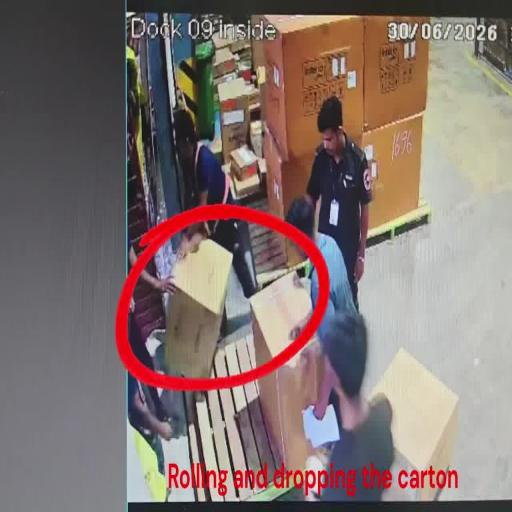carton: (256, 15, 366, 164), (250, 269, 327, 472), (370, 346, 461, 498), (265, 133, 355, 267), (164, 235, 232, 377), (353, 112, 423, 234), (362, 16, 430, 130), (219, 97, 251, 165), (229, 145, 260, 184), (226, 166, 262, 198)
pallet: (183, 326, 308, 502), (231, 214, 313, 290), (358, 206, 435, 250)
person: (284, 198, 360, 418), (172, 109, 258, 300), (316, 304, 396, 500), (300, 96, 372, 310), (126, 79, 176, 377), (127, 321, 173, 503)
